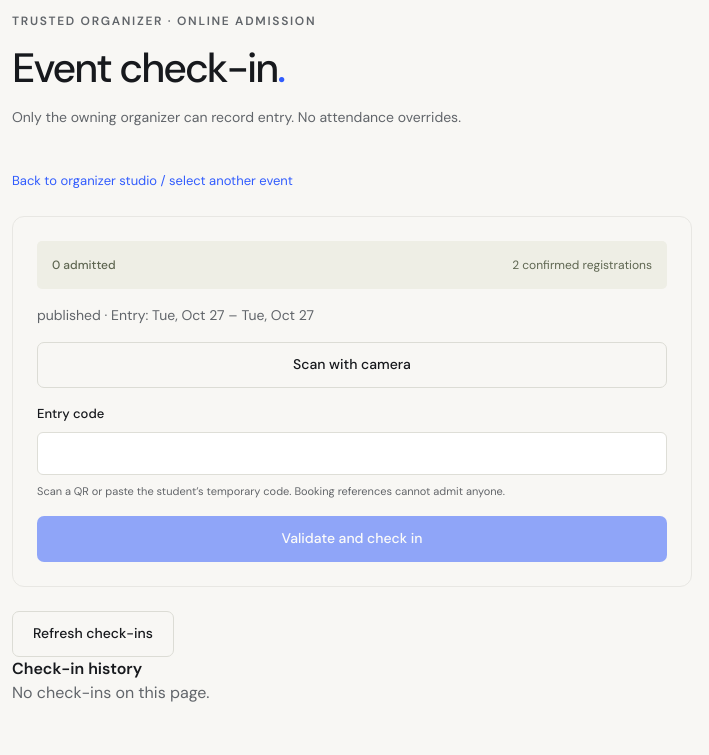
admission UI with mocked repository (security proven separately against PostgreSQL) › returns an accessible camera fallback when the browser API is unsupported
The image size is (709, 755).
Expected: the field labelled "Entry code" is shown, [37,432,667,475]
Step 1. Click the button "Scan with camera" → (352, 365), box [37,342,667,388]
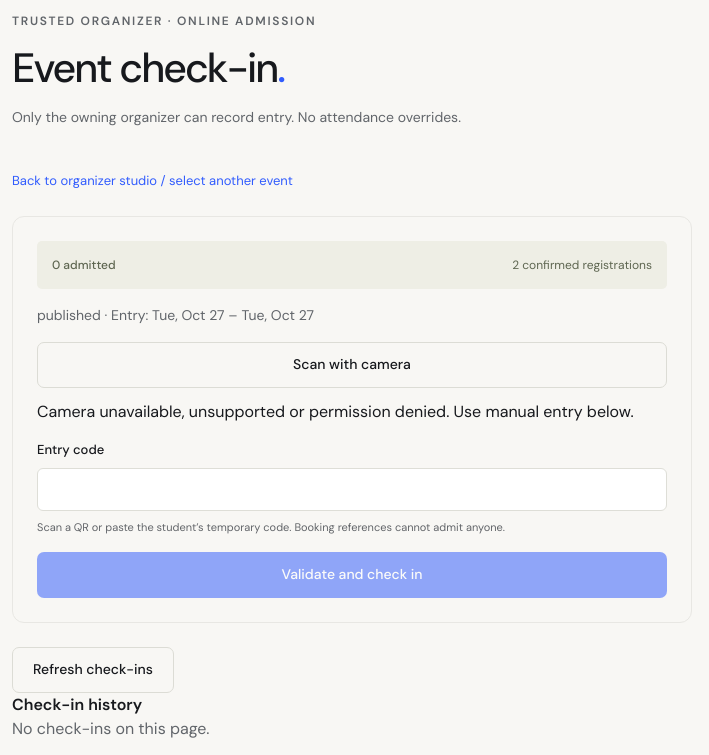
Expected: the field labelled "Entry code" is enabled, [37,468,667,511]
Result: the text "Camera unavailable, unsupported or permission denied. Use manual entry below." is shown at [37,400,667,424]
